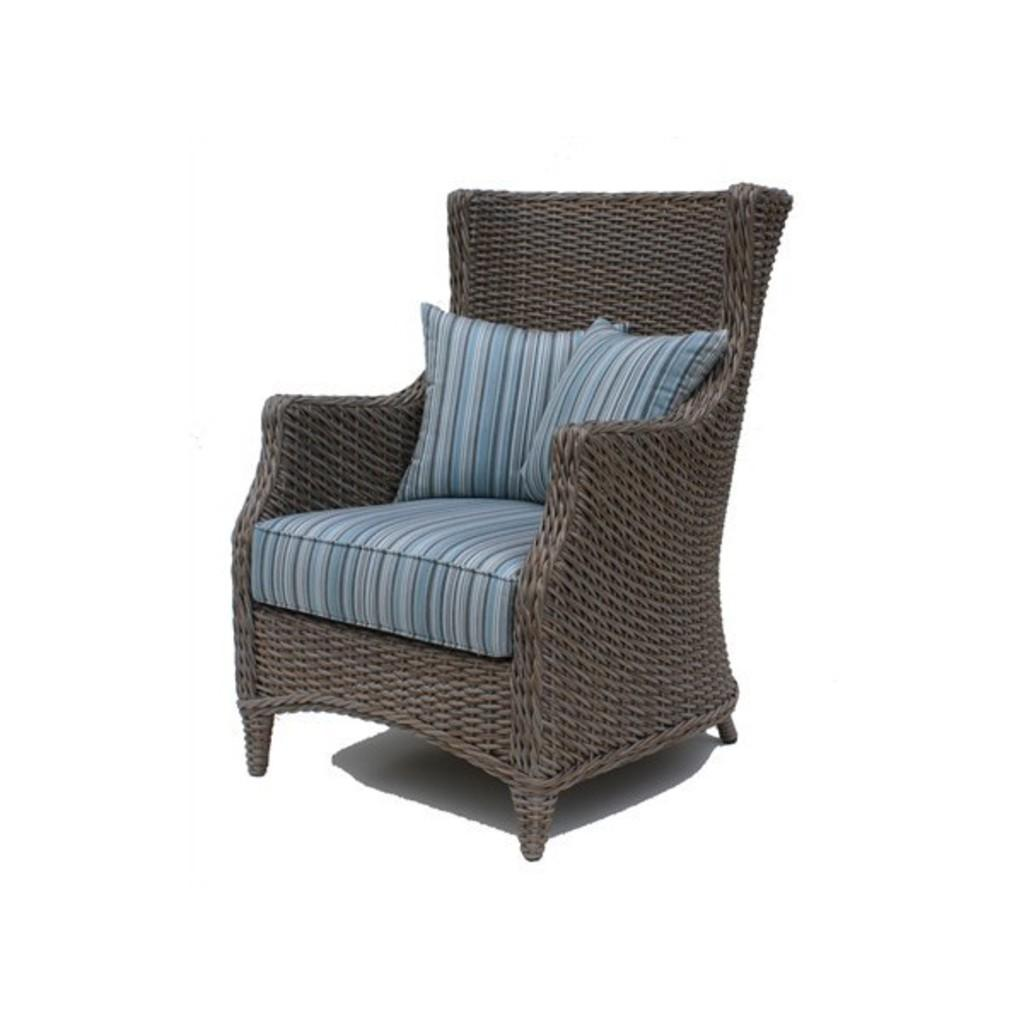Chair: (215, 188, 795, 867)
